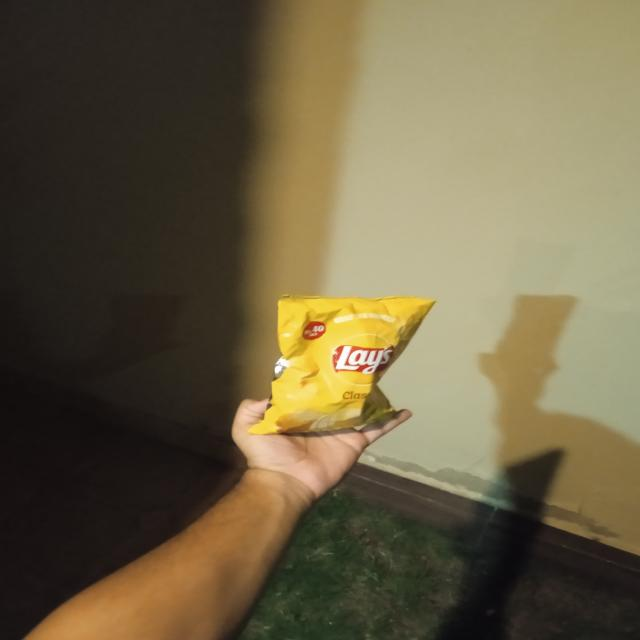Plastic: (238, 292, 433, 440)
